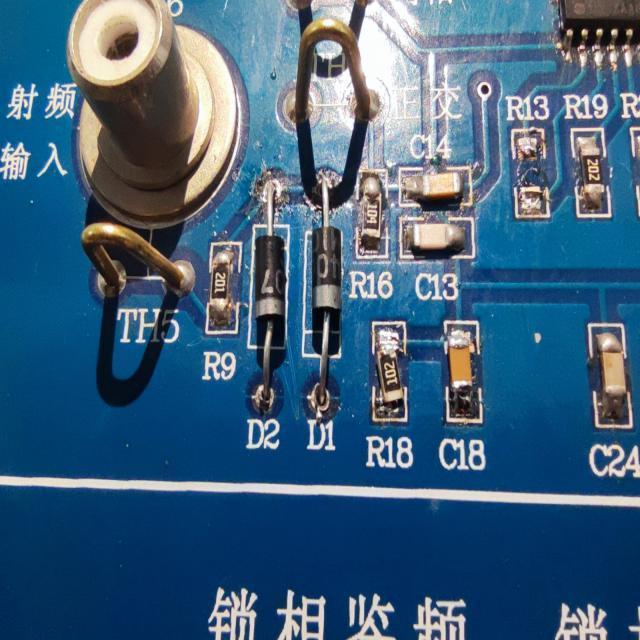Missing component: (504, 91, 555, 232)
